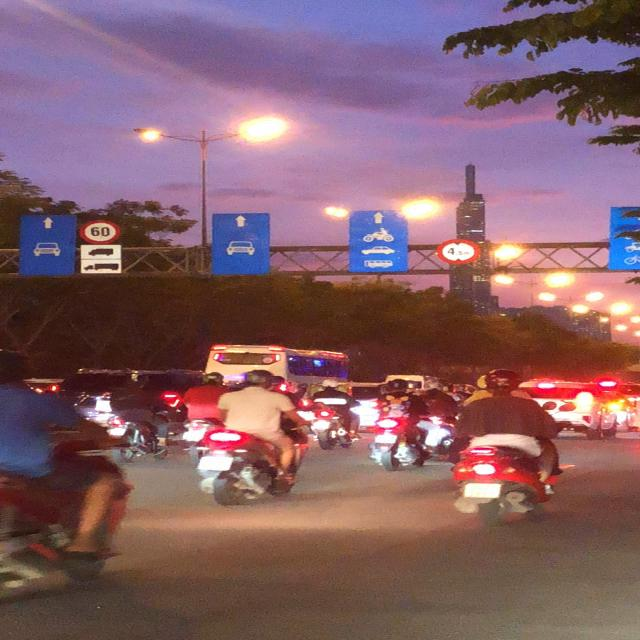Bien bao han che chieu cao: (434, 237, 482, 265)
Bien bao toc do toi da cho phep: (78, 218, 122, 245)
